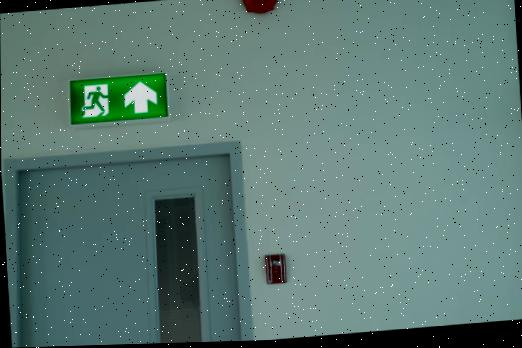emergency_exit: (69, 72, 168, 125)
